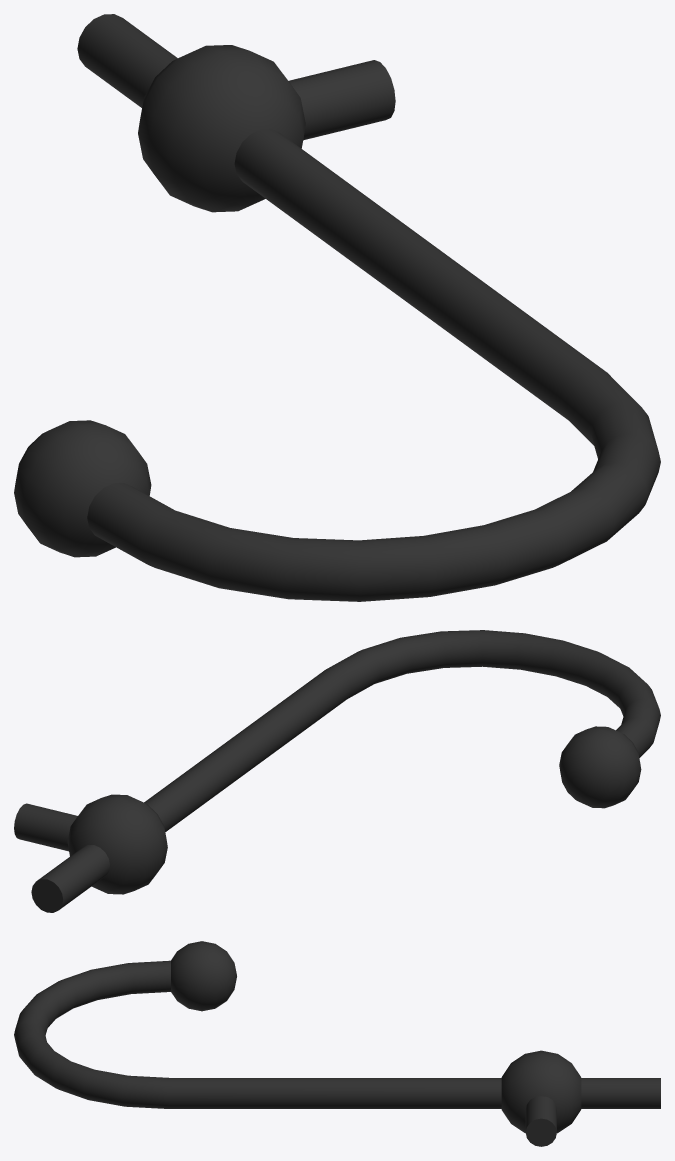
Rendered from Kleine_Glocke_x490_y400.obj.
The picture shows the model from 3 angles, top to bottom: view 1: azimuth 30°, elevation 25°; view 2: azimuth 150°, elevation 25°; view 3: azimuth 270°, elevation 25°; orthographic projection. The views are drawn at different scales.
Visible parts, largest first — view 1: Ausleger_Kleine_Glocke_Curve.001, Kleine_Glocke_große_Kugel, Kleine_Glocke_kleine_Kugel, Kleine_Glocke_Halterohr; view 2: Ausleger_Kleine_Glocke_Curve.001, Kleine_Glocke_große_Kugel, Kleine_Glocke_kleine_Kugel, Kleine_Glocke_Halterohr; view 3: Ausleger_Kleine_Glocke_Curve.001, Kleine_Glocke_große_Kugel, Kleine_Glocke_kleine_Kugel, Kleine_Glocke_Halterohr.
Boxes of the visible parts, <box> form: Ausleger_Kleine_Glocke_Curve.001: <box>77,14,660,601</box>; Kleine_Glocke_große_Kugel: <box>138,45,305,212</box>; Kleine_Glocke_kleine_Kugel: <box>14,420,151,557</box>; Kleine_Glocke_Halterohr: <box>288,60,395,140</box>; Ausleger_Kleine_Glocke_Curve.001: <box>31,630,660,912</box>; Kleine_Glocke_große_Kugel: <box>67,794,167,894</box>; Kleine_Glocke_kleine_Kugel: <box>559,726,641,808</box>; Kleine_Glocke_Halterohr: <box>14,803,77,851</box>; Ausleger_Kleine_Glocke_Curve.001: <box>14,960,660,1108</box>; Kleine_Glocke_große_Kugel: <box>501,1050,581,1133</box>; Kleine_Glocke_kleine_Kugel: <box>171,941,236,1011</box>; Kleine_Glocke_Halterohr: <box>525,1096,556,1146</box>.
Bounding box in the file's own units: 0.5187 × 0.11 × 0.8276.
1 material, 1 textured.
